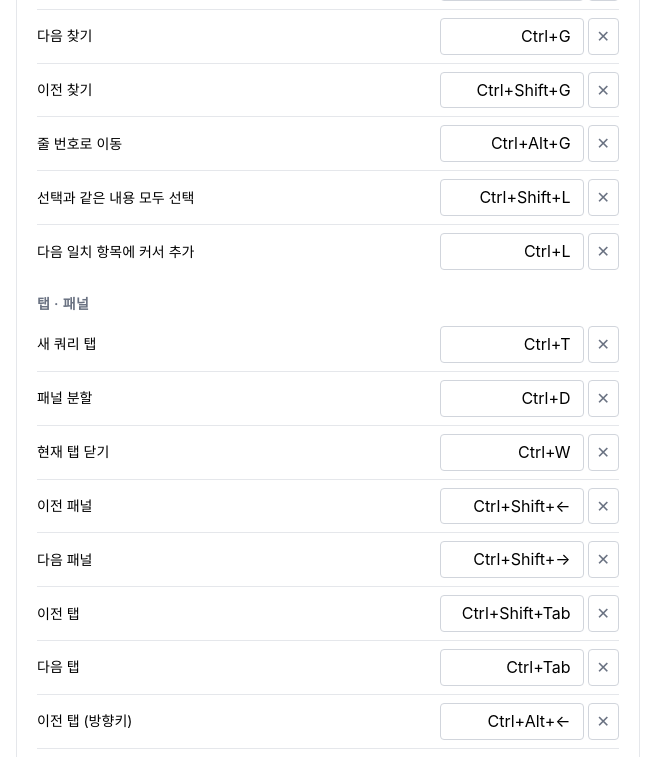
Test: records custom shortcuts and rejects conflicts
This screenshot has width=657, height=757.
(page scrolled)
Click the button with aria-label "패널 분할 단축키". click: coordinates (512, 398)
box: [440,380,584,417]
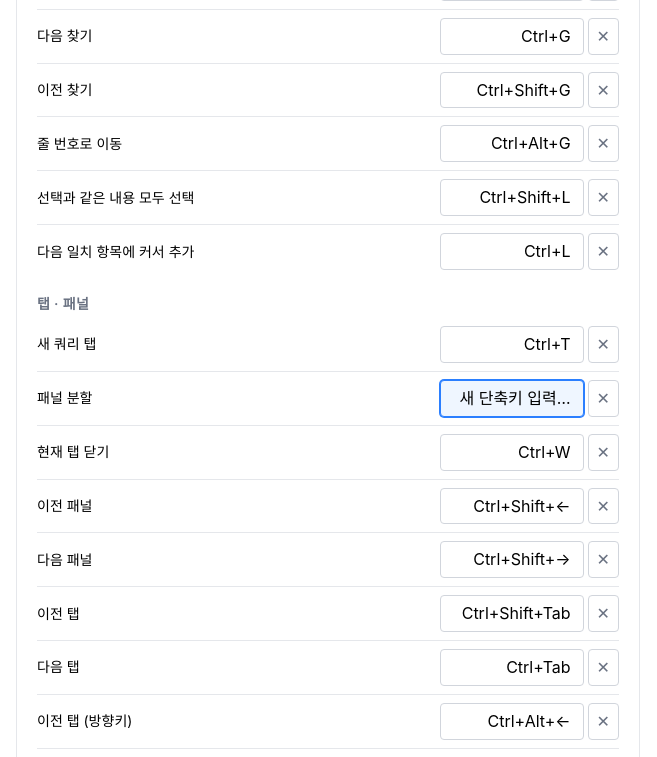
Press k
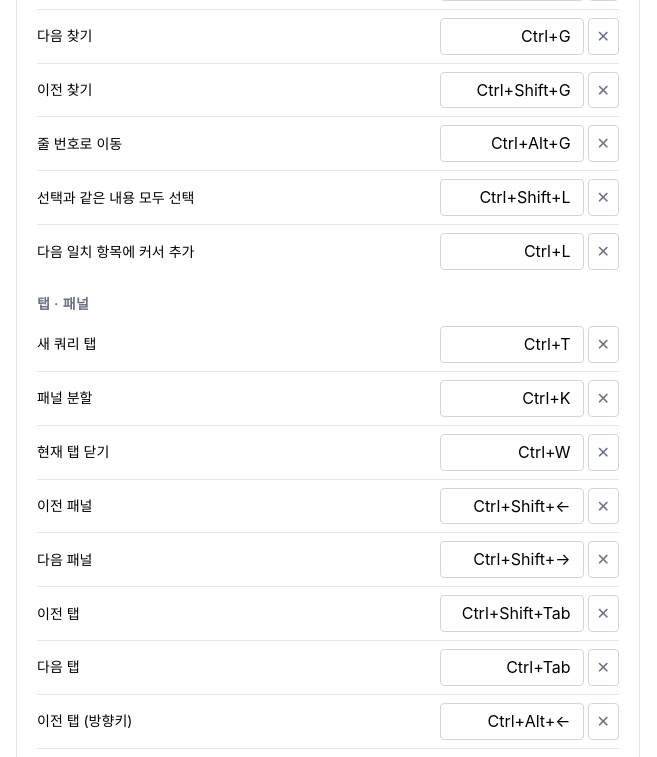
Expected: the button with aria-label "패널 분할 단축키" shows "K", [440,380,584,417]
Click the button with aria-label "다음 패널 단축키". click: coordinates (512, 560)
box: [440,541,584,578]
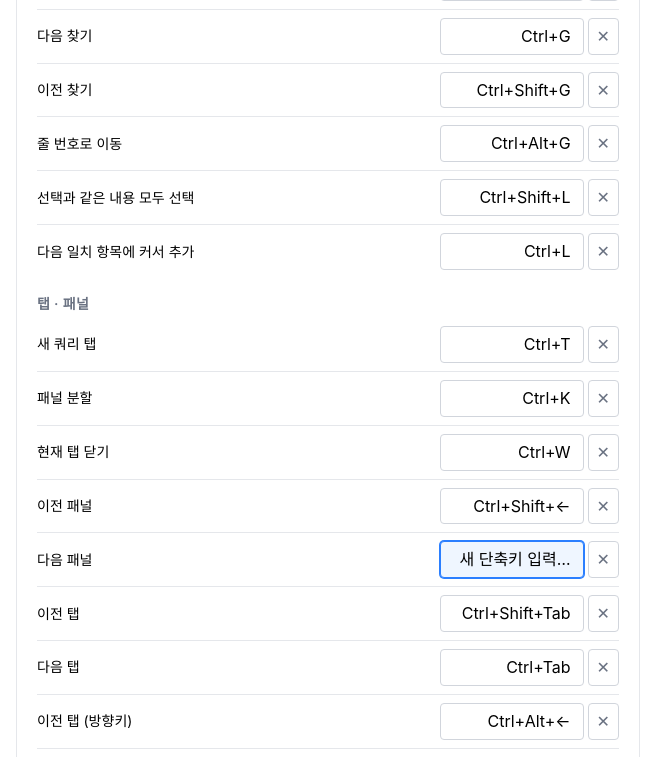
Press k in the button with aria-label "다음 패널 단축키", box [440,541,584,578]
(page scrolled)
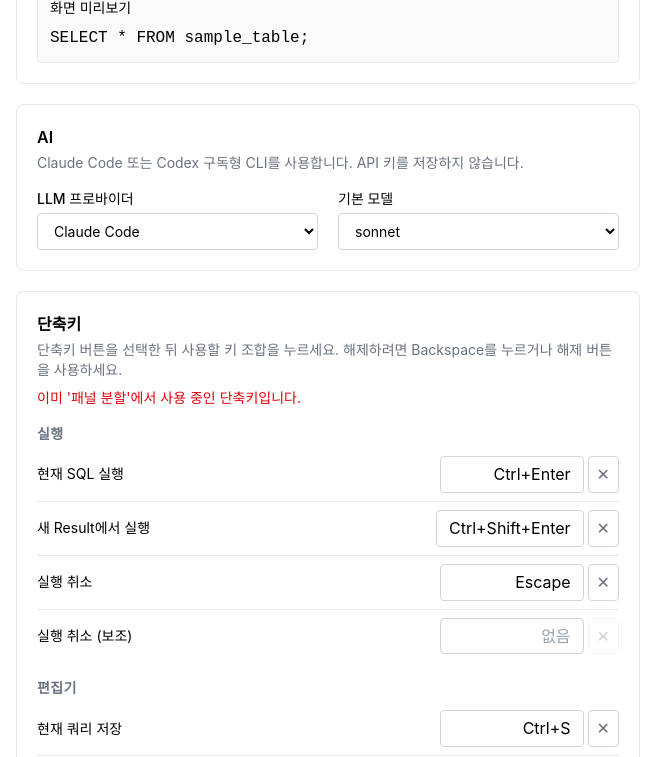
Expected: the message shows "패널 분할", [37,389,301,406]
